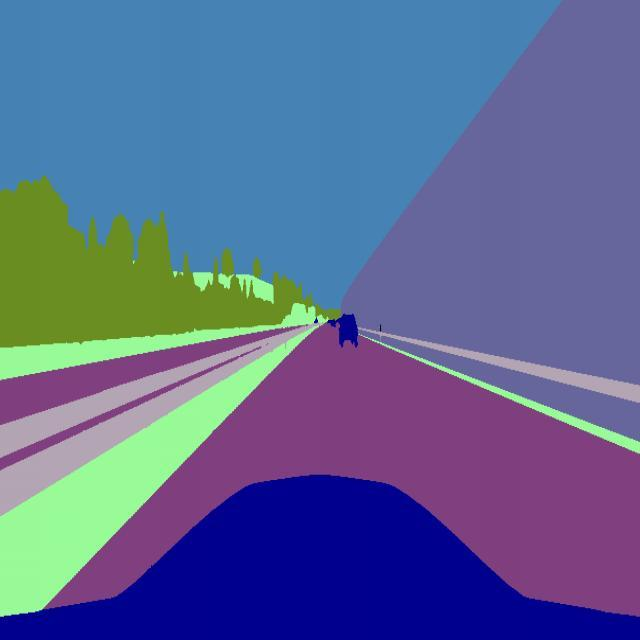safe: (334, 310, 364, 355), (328, 316, 334, 329)
